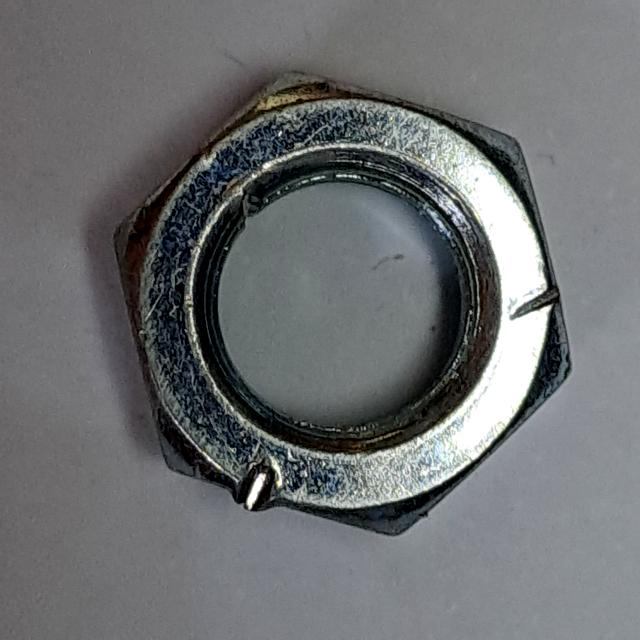Scratches: (100, 55, 584, 550)
